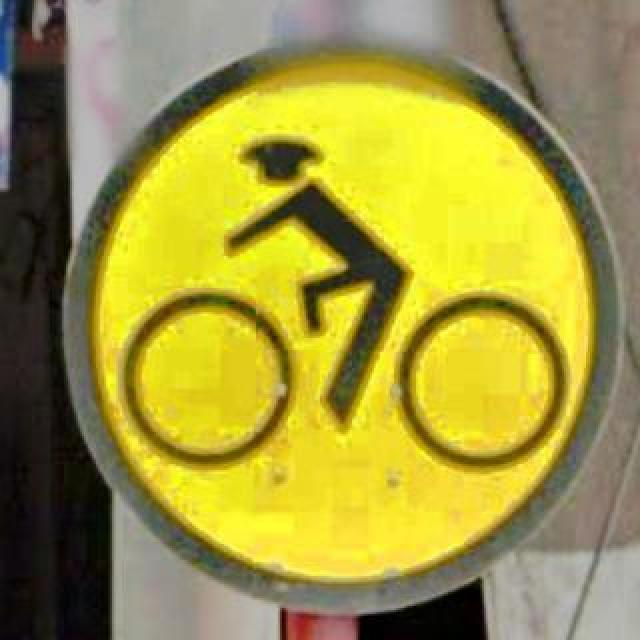bike lane: (62, 38, 618, 616)
